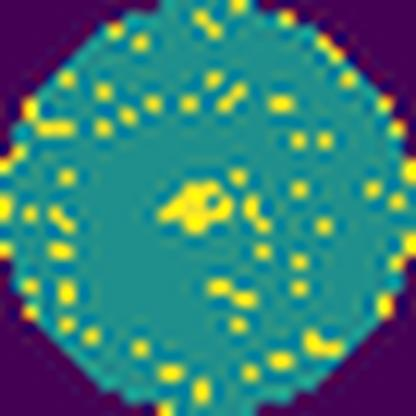Center: (153, 176, 239, 237)
